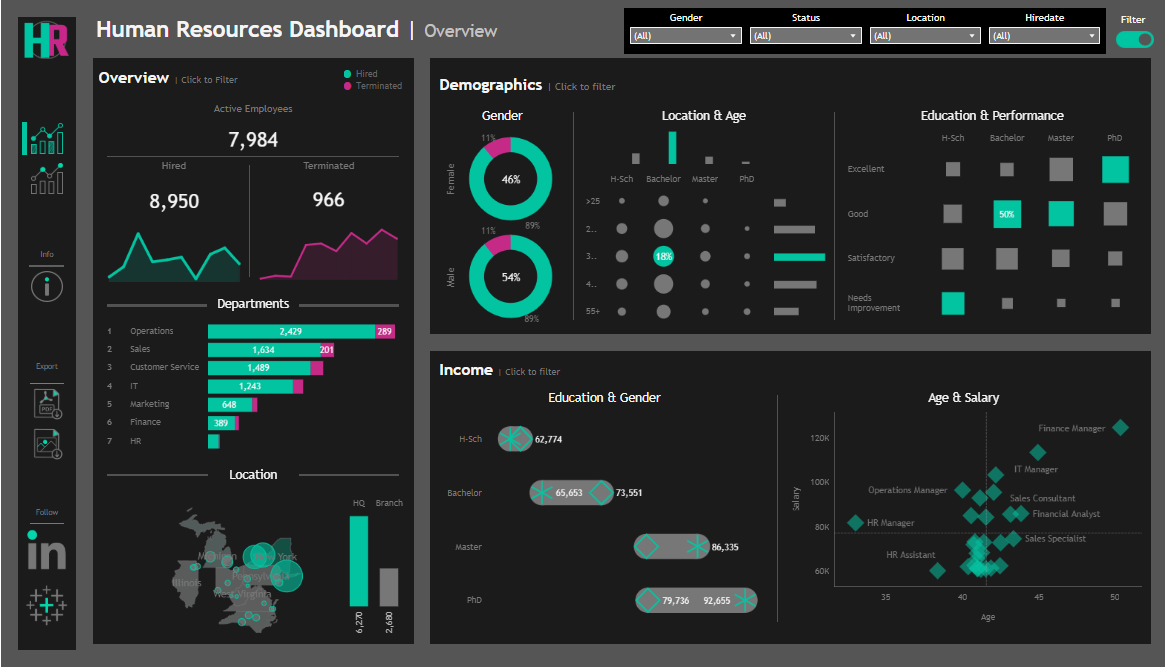

The dashboard page shown, as its layout file describes it:
{"tool":"tableau","page":{"name":"HR Summary","canvas":[1400,800],"ordinal":1},"visuals":[{"type":"blank","box":[91,0,1309,266]},{"type":"text","box":[110,0,1270,70]},{"type":"dashboard-object","box":[8,8,692,784]},{"type":"dashboard-object","box":[700,8,692,784]},{"type":"filter","title":"Gender Vs Education Level","param":"[federated.1ftb5tn1hrwtrl10u4p6111ckqso].[none:Gender:nk]","box":[750,11,144,52]},{"type":"filter","title":"Gender Vs Education Level","param":"[federated.1ftb5tn1hrwtrl10u4p6111ckqso].[none:Calculation_547750322670030848:nk","box":[894,11,144,52]},{"type":"filter","title":"Gender Vs Education Level","param":"[federated.1ftb5tn1hrwtrl10u4p6111ckqso].[none:Calculation_2210141535763165189:n","box":[1038,11,143,52]},{"type":"filter","title":"Gender Vs Education Level","param":"[federated.1ftb5tn1hrwtrl10u4p6111ckqso].[yr:Hiredate:ok]","box":[1181,11,143,52]},{"type":"text","box":[1331,11,55,25]},{"type":"image","param":"Image/Logo.png","box":[20,20,70,55]},{"type":"dashboard-object","box":[1338,23,45,49]},{"type":"text","box":[411,71,105,52]},{"type":"text","box":[117,77,371,32]},{"type":"text","box":[522,77,851,48]},{"type":"blank","box":[30,85,50,62]},{"type":"text","box":[117,109,371,38]},{"type":"text","box":[522,125,159,29]},{"type":"blank","box":[686,125,1,269.5]},{"type":"text","box":[692,125,303,29]},{"type":"blank","box":[1000,125,1,269.5]},{"type":"text","box":[1006,125,367,29]},{"type":"blank","box":[25,146,6,40]},{"type":"dashboard-object","box":[30,147,50,38]},{"type":"worksheet","title":"BAN Active","mark":"Text","box":[117,147,371,40]},{"type":"worksheet","title":"Gender","mark":"Pie","rows":["Gender"],"cols":["Calculation_2210141535769513991","Calculation_2210141535769513991"],"box":[522,154,159,240.5]},{"type":"worksheet","title":"Education Levels","mark":"Bar","rows":["Calculation_2210141535752261632"],"cols":["Education Level"],"box":[692,154,303,49]},{"type":"worksheet","title":"Education VS Perfomance","mark":"Square","rows":["Performance Rating"],"cols":["Education Level"],"box":[1006,154,367,240.5]},{"type":"blank","box":[30,185,50,10]},{"type":"blank","box":[117,187,371,1]},{"type":"text","box":[117,188,181,26]},{"type":"blank","box":[298,188,1,154]},{"type":"text","box":[299,188,188.9,26]},{"type":"dashboard-object","box":[30,195,50,38]},{"type":"worksheet","title":"Age VS education","mark":"Circle","rows":["Calculation_2210141535776993290"],"cols":["Education Level"],"box":[692,203,232,191.5]},{"type":"worksheet","title":"Age Group","mark":"Bar","rows":["Calculation_2210141535776993290"],"cols":["Calculation_2210141535752261632"],"box":[924,203,71,191.5]},{"type":"worksheet","title":"BAN Hired","mark":"Text","box":[117,214,181,61]},{"type":"worksheet","title":"BAN Terminated","mark":"Text","box":[299,214,188.9,56]},{"type":"blank","box":[30,233,50,62]},{"type":"text","box":[91,266,1309,309]},{"type":"worksheet","title":"Terminated By year","mark":"Line","rows":["Calculation_2210141535752499201","Calculation_2210141535752499201"],"cols":["Termdate"],"box":[299,270,188.9,72]},{"type":"worksheet","title":"Hired By year","mark":"Line","rows":["Calculation_2210141535752261632","Calculation_2210141535752261632"],"cols":["Hiredate"],"box":[117,275,181,67]},{"type":"text","box":[30,295,50,22]},{"type":"blank","box":[30,317,50,11]},{"type":"dashboard-object","box":[30,328,50,38]},{"type":"blank","box":[127,347,118.3,35]},{"type":"text","box":[245.3,347,114.3,35]},{"type":"blank","box":[359.6,347,118.3,35]},{"type":"blank","box":[30,366,50,60]},{"type":"worksheet","title":"Departments","mark":"Bar","rows":["Calculation_2210141535762391044","Department"],"cols":["Calculation_2210141535752261632"],"box":[117,382,371,162]},{"type":"text","box":[30,426,50,32]},{"type":"text","box":[522,428.5,851,35]},{"type":"blank","box":[30,458,50,11]},{"type":"text","box":[522,468.5,404,29]},{"type":"blank","box":[931,468.5,1,292]},{"type":"text","box":[937,468.5,436,29]},{"type":"dashboard-object","box":[30,469,50,38]},{"type":"worksheet","title":"Gender Vs Education Level","mark":"Square","rows":["Education Level"],"cols":["Salary","Salary"],"box":[522,497.5,404,263]},{"type":"worksheet","title":"Age Vs Slalry","mark":"Shape","rows":["Salary"],"cols":["Calculation_2210141535776276489"],"box":[937,497.5,436,263]},{"type":"blank","box":[30,507,50,10]},{"type":"dashboard-object","box":[30,517,50,38]},{"type":"blank","box":[127,549,119.7,41]},{"type":"text","box":[246.7,549,111.7,41]},{"type":"blank","box":[358.3,549,119.7,41]},{"type":"blank","box":[30,555,50,51]},{"type":"blank","box":[91,575,1309,225]},{"type":"worksheet","title":"Map States","mark":"Automatic","box":[117,590,290.2,174]},{"type":"worksheet","title":"Location","mark":"Bar","rows":["Calculation_2210141535752261632"],"cols":["Calculation_2210141535763165189","Calculation_2210141535752261632"],"box":[407.2,590,80.8,174]},{"type":"text","box":[30,606,50,20]},{"type":"blank","box":[30,626,50,11]},{"type":"image","param":"Image/contact-linkedin.png","box":[30,637,50,52]},{"type":"blank","box":[30,689,50,10]},{"type":"image","param":"Image/contact-public.png","box":[30,699,50,59]}]}

Visuals, with their boxes in screenshot pixels (x1, y1, x2, y2), scaled from the page's 1400x800 canvas onto the 1165x667 screenshot:
blank: locate(76, 0, 1164, 222)
text: locate(92, 0, 1148, 58)
dashboard-object: locate(7, 7, 582, 660)
dashboard-object: locate(582, 7, 1158, 660)
"Gender Vs Education Level" filter: locate(624, 9, 744, 53)
"Gender Vs Education Level" filter: locate(744, 9, 864, 53)
"Gender Vs Education Level" filter: locate(864, 9, 983, 53)
"Gender Vs Education Level" filter: locate(983, 9, 1102, 53)
text: locate(1108, 9, 1153, 30)
image: locate(17, 17, 75, 63)
dashboard-object: locate(1113, 19, 1151, 60)
text: locate(342, 59, 429, 103)
text: locate(97, 64, 406, 91)
text: locate(434, 64, 1143, 104)
blank: locate(25, 71, 67, 123)
text: locate(97, 91, 406, 123)
text: locate(434, 104, 567, 128)
blank: locate(571, 104, 572, 329)
text: locate(576, 104, 828, 128)
blank: locate(832, 104, 833, 329)
text: locate(837, 104, 1143, 128)
blank: locate(21, 122, 26, 155)
dashboard-object: locate(25, 123, 67, 154)
"BAN Active" worksheet (Text marks): locate(97, 123, 406, 156)
"Gender" worksheet (Pie marks): locate(434, 128, 567, 329)
"Education Levels" worksheet (Bar marks): locate(576, 128, 828, 169)
"Education VS Perfomance" worksheet (Square marks): locate(837, 128, 1143, 329)
blank: locate(25, 154, 67, 163)
blank: locate(97, 156, 406, 157)
text: locate(97, 157, 248, 178)
blank: locate(248, 157, 249, 285)
text: locate(249, 157, 406, 178)
dashboard-object: locate(25, 163, 67, 194)
"Age VS education" worksheet (Circle marks): locate(576, 169, 769, 329)
"Age Group" worksheet (Bar marks): locate(769, 169, 828, 329)
"BAN Hired" worksheet (Text marks): locate(97, 178, 248, 229)
"BAN Terminated" worksheet (Text marks): locate(249, 178, 406, 225)
blank: locate(25, 194, 67, 246)
text: locate(76, 222, 1164, 479)
"Terminated By year" worksheet (Line marks): locate(249, 225, 406, 285)
"Hired By year" worksheet (Line marks): locate(97, 229, 248, 285)
text: locate(25, 246, 67, 264)
blank: locate(25, 264, 67, 273)
dashboard-object: locate(25, 273, 67, 305)
blank: locate(106, 289, 204, 318)
text: locate(204, 289, 299, 318)
blank: locate(299, 289, 398, 318)
blank: locate(25, 305, 67, 355)
"Departments" worksheet (Bar marks): locate(97, 318, 406, 454)
text: locate(25, 355, 67, 382)
text: locate(434, 357, 1143, 386)
blank: locate(25, 382, 67, 391)
text: locate(434, 391, 771, 415)
blank: locate(775, 391, 776, 634)
text: locate(780, 391, 1143, 415)
dashboard-object: locate(25, 391, 67, 423)
"Gender Vs Education Level" worksheet (Square marks): locate(434, 415, 771, 634)
"Age Vs Slalry" worksheet (Shape marks): locate(780, 415, 1143, 634)
blank: locate(25, 423, 67, 431)
dashboard-object: locate(25, 431, 67, 463)
blank: locate(106, 458, 205, 492)
text: locate(205, 458, 298, 492)
blank: locate(298, 458, 398, 492)
blank: locate(25, 463, 67, 505)
blank: locate(76, 479, 1164, 666)
"Map States" worksheet: locate(97, 492, 339, 637)
"Location" worksheet (Bar marks): locate(339, 492, 406, 637)
text: locate(25, 505, 67, 522)
blank: locate(25, 522, 67, 531)
image: locate(25, 531, 67, 574)
blank: locate(25, 574, 67, 583)
image: locate(25, 583, 67, 632)
